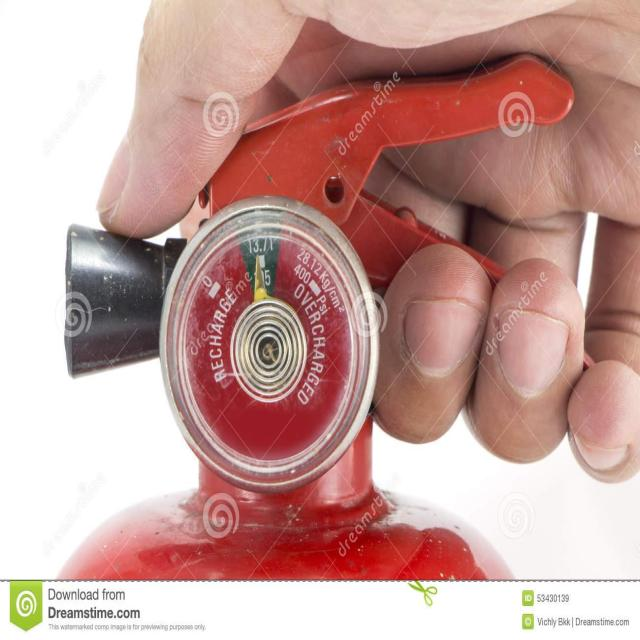fire_extinguisher: (44, 47, 584, 581)
